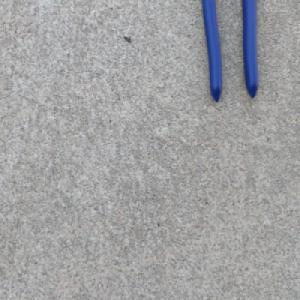Pliers: (200, 0, 260, 104)
